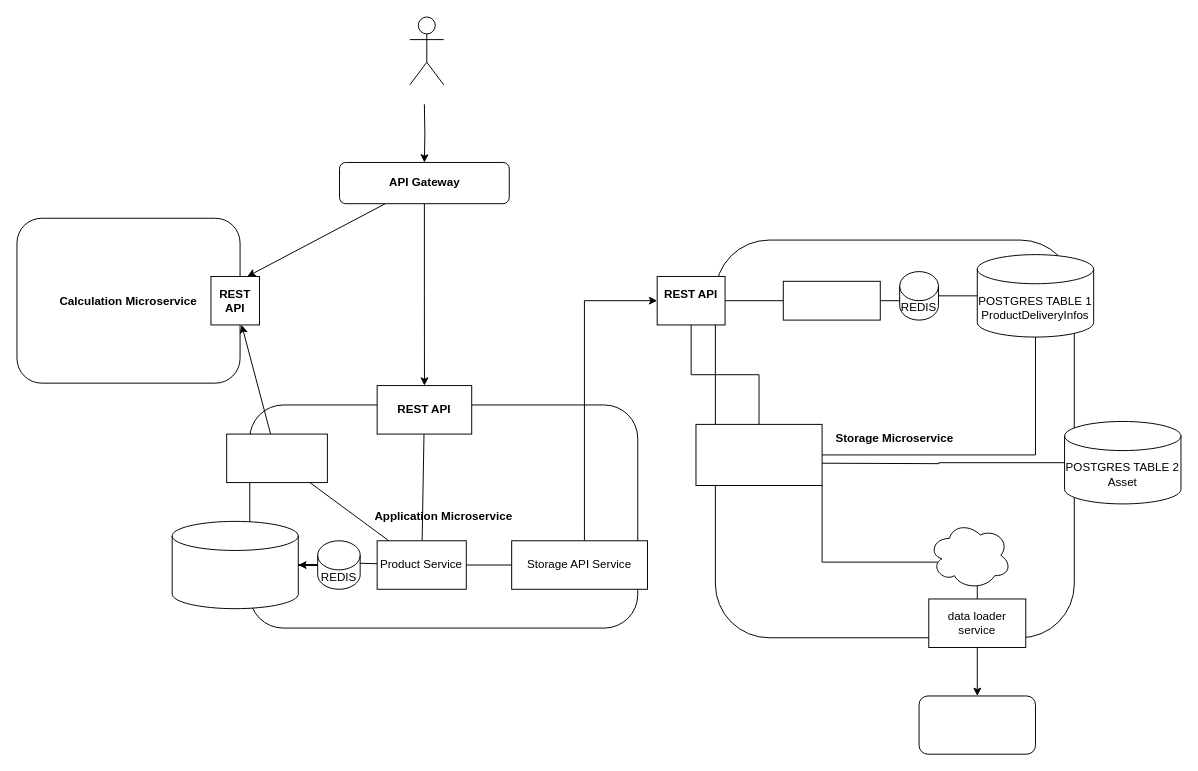
This 1198x771 diagram has some shape labels left out. The shapes that lost their labels are listed below. From the top down, each one's centre as x and y in pixels, then its label:
(x=426, y=50): Actor
(x=831, y=300): DB service
(x=276, y=458): Calculator API Service
(x=758, y=454): CSVconverter service
(x=234, y=564): POSTGRES Products
(x=969, y=554): csv
(x=976, y=724): AWS API
